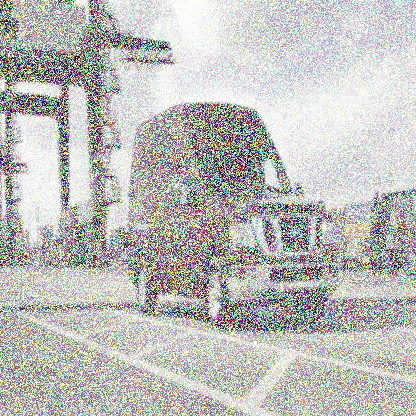Vehicle: (125, 98, 341, 338)
